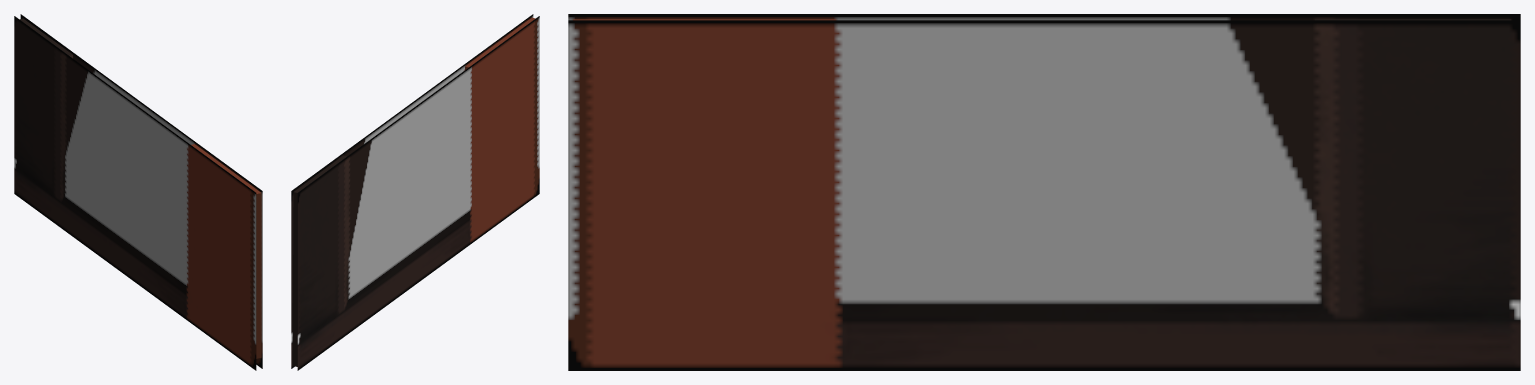
Rendered from pz_native_location_restaurant_seahorse_01_37_frame.obj.
3 views of the same model, side by side, from view 1: azimuth 30°, elevation 25°; view 2: azimuth 150°, elevation 25°; view 3: azimuth 270°, elevation 25° (orthographic). The views are drawn at different scales.
Parts seen in each view (by area): view 1: pz_native_location_restaurant_seahorse_01_37_frame; view 2: pz_native_location_restaurant_seahorse_01_37_frame; view 3: pz_native_location_restaurant_seahorse_01_37_frame.
Part boxes in pixels (bbox=[...]): pz_native_location_restaurant_seahorse_01_37_frame: bbox=[14, 14, 262, 370]; pz_native_location_restaurant_seahorse_01_37_frame: bbox=[291, 14, 539, 370]; pz_native_location_restaurant_seahorse_01_37_frame: bbox=[568, 14, 1520, 370].
Bounding box in the file's own units: 0.04 × 1.03 × 2.54.
1 material, 1 textured.
